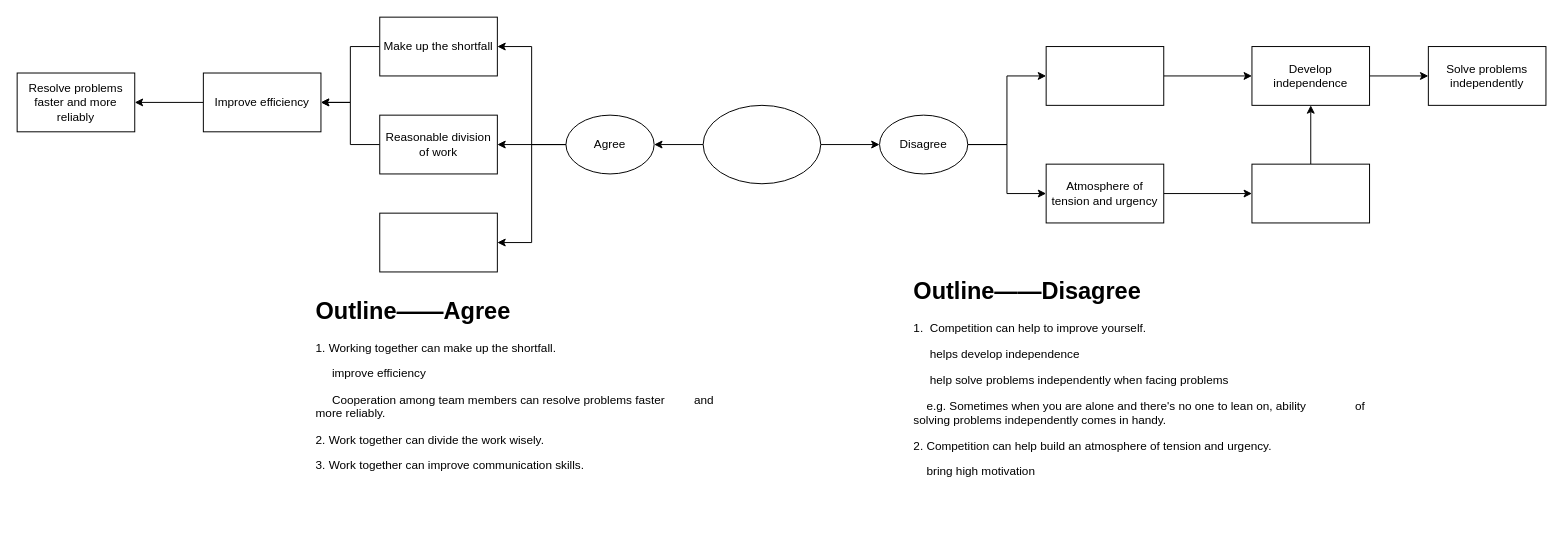
This 1563x534 diagram has some shape labels left out. Here are the shapes that lost their labels. From the top down, the box of each, then its label:
(1045, 46, 1164, 105): Self-improvement
(702, 104, 821, 184): Work together for everyone's benefits
(1251, 163, 1370, 223): High motivation
(379, 212, 497, 272): Improve communication skills
